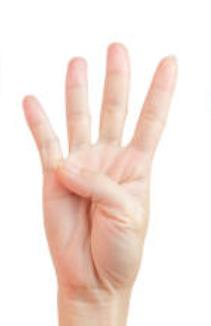right: (17, 38, 181, 291)
